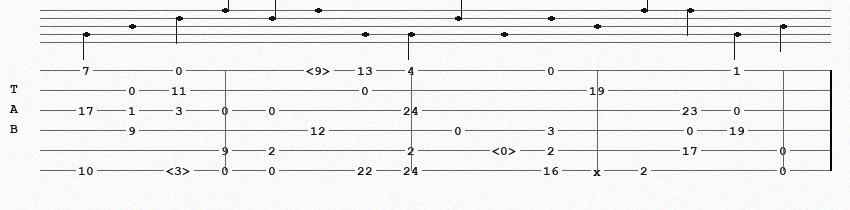0: (128, 84, 140, 96), (175, 64, 187, 76), (221, 164, 233, 176), (221, 104, 233, 116), (268, 104, 280, 116), (268, 164, 280, 176), (361, 84, 373, 96), (454, 124, 466, 136), (547, 64, 559, 76), (686, 124, 698, 136), (733, 104, 745, 116), (779, 144, 791, 156), (779, 164, 791, 176)
1: (128, 104, 140, 116), (733, 64, 745, 76)
10: (78, 164, 98, 176)
11: (171, 84, 191, 96)
12: (310, 124, 330, 136)
13: (357, 64, 377, 76)
16: (543, 164, 563, 176)
17: (78, 104, 98, 116), (682, 144, 702, 156)
19: (589, 84, 609, 96), (729, 124, 749, 136)
2: (268, 144, 280, 156), (407, 144, 419, 156), (547, 144, 559, 156), (640, 164, 652, 176)
22: (357, 164, 377, 176)
23: (682, 104, 702, 116)
24: (403, 104, 423, 116), (403, 164, 423, 176)
3: (175, 104, 187, 116), (547, 124, 559, 136)
4: (407, 64, 419, 76)
7: (82, 64, 94, 76)
9: (128, 124, 140, 136), (221, 144, 233, 156)
harmonic: (166, 164, 195, 176), (306, 64, 335, 76), (492, 144, 521, 156)
x: (593, 165, 605, 175)
